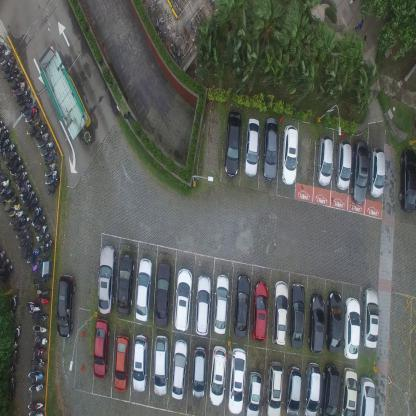car: (226, 346, 247, 416), (96, 242, 116, 314), (173, 266, 193, 334), (56, 272, 76, 338), (223, 109, 242, 178), (134, 256, 153, 322), (272, 278, 290, 346), (398, 146, 416, 214), (280, 123, 299, 187), (288, 282, 306, 349), (233, 271, 251, 338), (350, 138, 368, 204), (209, 344, 228, 406), (151, 332, 169, 397), (251, 277, 269, 342), (342, 296, 360, 360), (319, 362, 340, 416), (262, 115, 279, 181), (130, 332, 148, 394), (92, 316, 110, 378), (117, 251, 134, 316), (361, 285, 378, 349), (171, 336, 188, 400), (154, 260, 170, 328), (265, 359, 284, 415), (243, 115, 260, 177), (213, 273, 230, 335), (326, 289, 342, 353), (308, 291, 324, 354), (195, 273, 211, 336), (315, 134, 334, 187), (338, 366, 358, 415), (112, 333, 128, 393), (302, 362, 320, 415), (334, 138, 352, 190), (368, 145, 385, 199), (284, 364, 302, 415), (190, 344, 206, 399), (244, 368, 262, 415), (356, 375, 376, 415)
